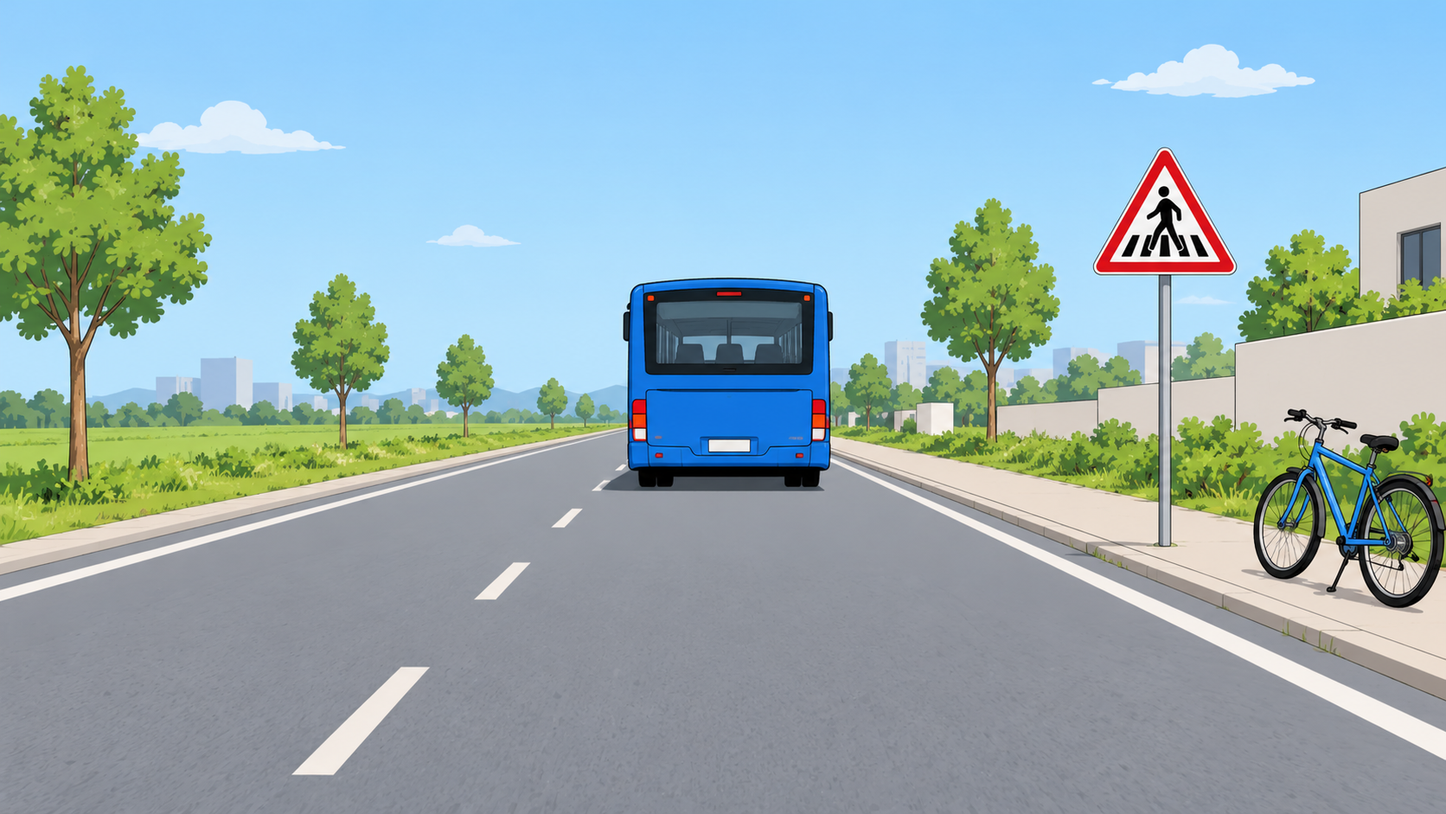bicycle: (1249, 408, 1445, 610)
bus: (623, 276, 835, 489)
crossing_warning_sign: (1091, 146, 1238, 277)
